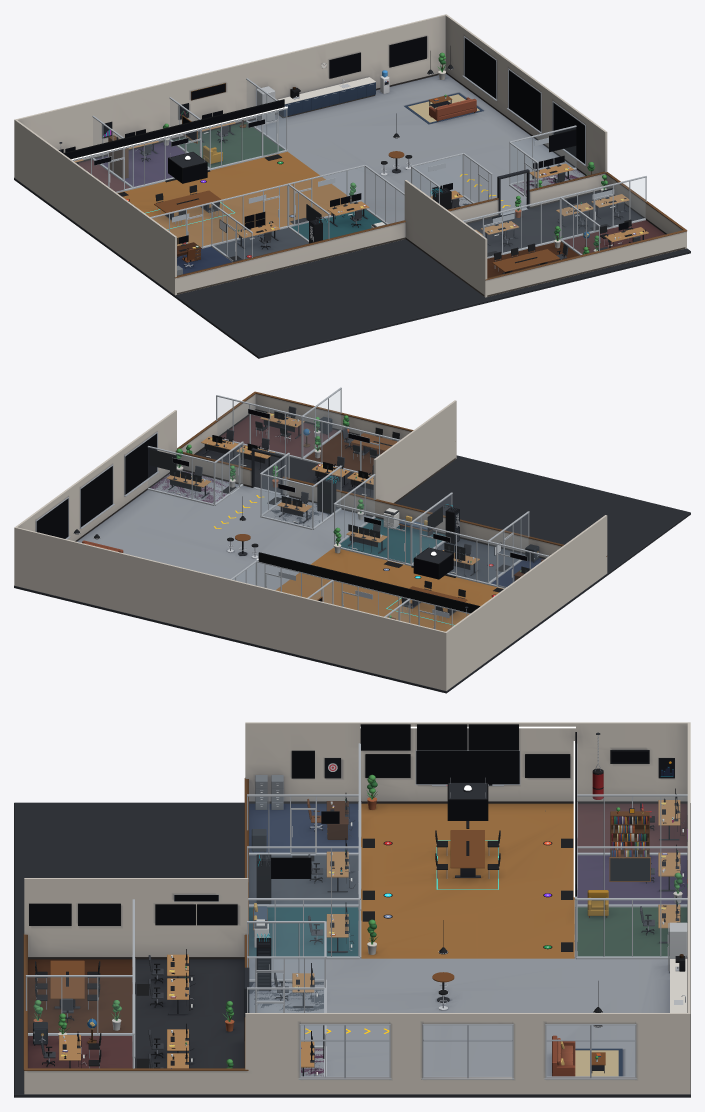
The model's file is office.draco.glb.
The picture shows the model from 3 angles, top to bottom: view 1: azimuth 30°, elevation 25°; view 2: azimuth 150°, elevation 25°; view 3: azimuth 270°, elevation 25°; orthographic projection. The views are drawn at different scales.
Visible parts, largest first — view 1: lounge, geo_slab, ext_north, ext_west, bullpen, ext_south, front_back_row, ext_east, inv_west, inv_south, invest_floor, inv_board_north (+38 smaller); view 2: ext_north, lounge, geo_slab, ext_west, bullpen, inv_west, ext_south, ext_east, front_back_row, front_front_row, inv_chair_north, goal_north (+27 smaller); view 3: lounge, bullpen, ext_east, geo_slab, ext_west, inv_west, invest_floor, part_gemma_lounge, inv_east, inv_board_chair, part_nova_gemma, part_vince_alcove (+47 smaller).
Part boxes in pixels (x1,y1,x2,y2): lounge: (249, 74, 585, 223); geo_slab: (14, 177, 690, 358); ext_north: (14, 14, 445, 177); ext_west: (14, 119, 176, 294); bullpen: (117, 151, 351, 246); ext_south: (174, 171, 605, 295); front_back_row: (73, 108, 287, 192); ext_east: (445, 14, 607, 175); inv_west: (404, 180, 487, 296); inv_south: (484, 230, 686, 297); invest_floor: (467, 191, 643, 253); inv_board_north: (462, 197, 560, 258); ext_north: (14, 527, 447, 690); lounge: (77, 471, 371, 590); geo_slab: (14, 455, 690, 693); ext_west: (444, 515, 607, 690); bullpen: (276, 547, 503, 631); inv_west: (373, 400, 456, 503); ext_south: (175, 451, 607, 573); ext_east: (14, 410, 176, 585); front_back_row: (256, 560, 470, 630); front_front_row: (411, 522, 548, 588); inv_chair_north: (216, 395, 302, 459); goal_north: (147, 446, 214, 505); lounge: (249, 958, 669, 1076); bullpen: (361, 803, 574, 958); ext_east: (245, 1013, 690, 1094); geo_slab: (14, 802, 690, 1097); ext_west: (245, 722, 690, 803); inv_west: (24, 878, 248, 959); invest_floor: (135, 959, 244, 1068); part_gemma_lounge: (576, 898, 687, 959); inv_east: (24, 1068, 248, 1094); inv_board_chair: (25, 975, 132, 1035); part_nova_gemma: (577, 846, 687, 907); part_vince_alcove: (247, 846, 358, 907).
Bounding box in the file's own units: 28.16 × 3.76 × 27.56.
